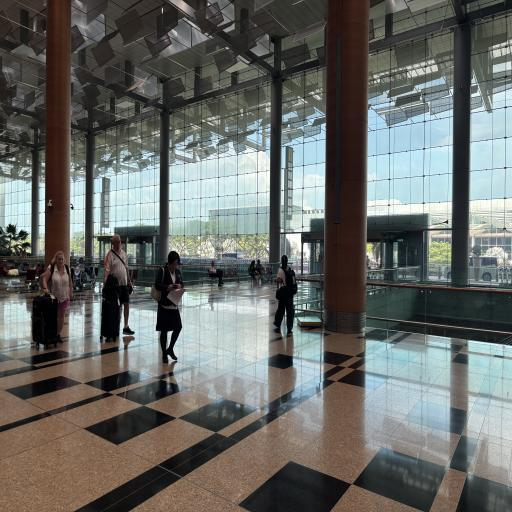person_right: (150, 239, 188, 368)
person_with_luggage_right: (32, 242, 76, 356), (102, 224, 135, 348)
